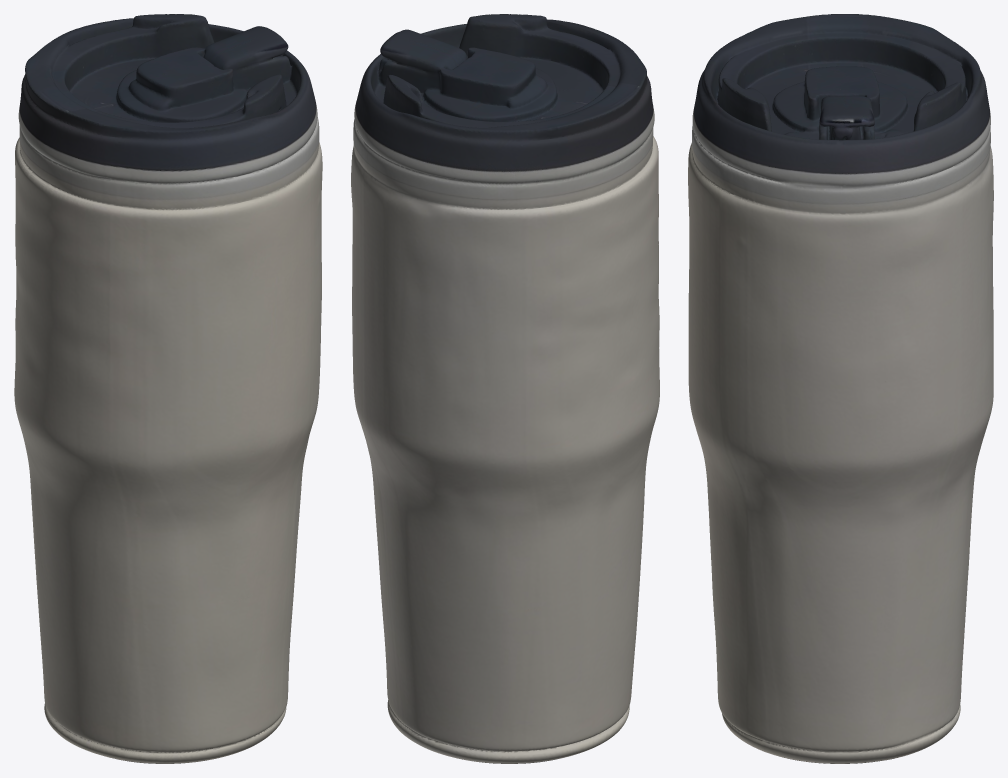
File: warm400-tripo.glb
3 renders of one model, left to right at view 1: azimuth 30°, elevation 25°; view 2: azimuth 150°, elevation 25°; view 3: azimuth 270°, elevation 25°, orthographic.
Visible parts, largest first — view 1: tripo_node_f607b85b-4e27-4ff6-bb39-28026732253a; view 2: tripo_node_f607b85b-4e27-4ff6-bb39-28026732253a; view 3: tripo_node_f607b85b-4e27-4ff6-bb39-28026732253a.
Part boxes in pixels (x1,y1,x2,y2): tripo_node_f607b85b-4e27-4ff6-bb39-28026732253a: (14,14,322,763); tripo_node_f607b85b-4e27-4ff6-bb39-28026732253a: (351,14,659,763); tripo_node_f607b85b-4e27-4ff6-bb39-28026732253a: (688,14,993,763).
Bounding box in the file's own units: 0.4211 × 1 × 0.4199.
Materials: 1 (1 with a texture image).
